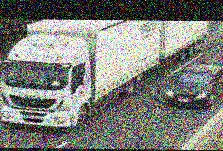car: (163, 64, 223, 112)
